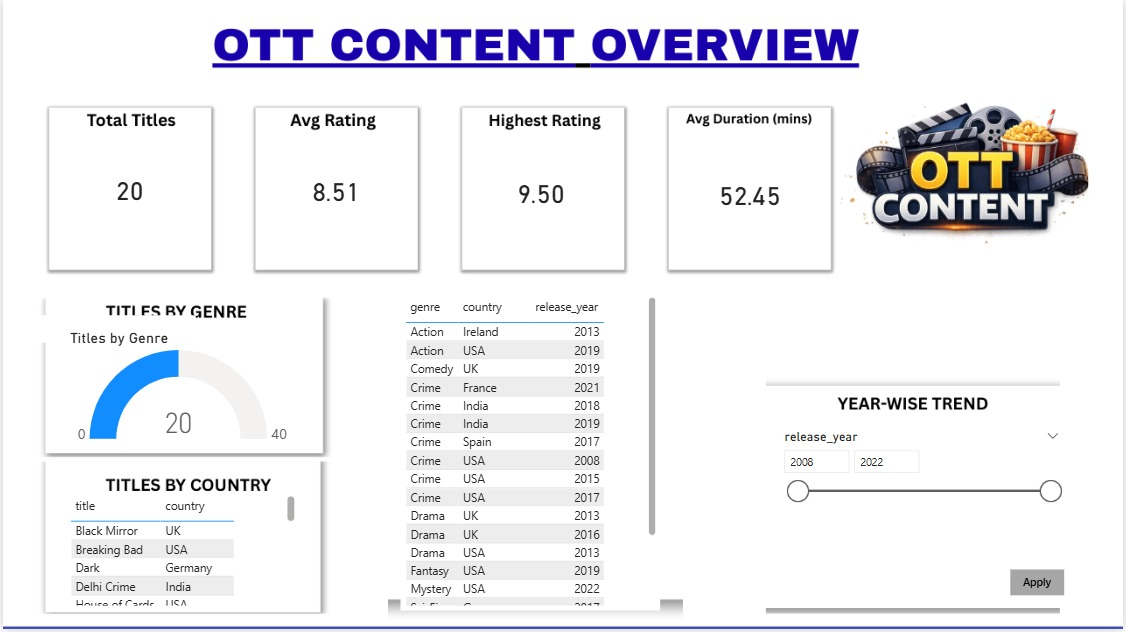

This screenshot's page, from the dashboard's own definition file:
{"tool":"powerbi","page":{"name":"Page 1","canvas":[1280,720],"ordinal":0},"visuals":[{"type":"textbox","box":[16.5,360.9,203.1,31.6],"z":0},{"type":"card","fields":{"Values":["ott_content_dataset.Total Titles"]},"box":[57.1,162.9,175.7,110],"z":1000},{"type":"card","fields":{"Values":["ott_content_dataset.Average Rating"]},"box":[292.9,182.9,175.7,72.9],"z":2000},{"type":"card","fields":{"Values":["ott_content_dataset.Highest Rating"]},"box":[527.1,182.9,175.7,77.1],"z":3000},{"type":"card","fields":{"Values":["ott_content_dataset.Average Duration"]},"box":[765.7,162.9,175.7,121.4],"z":4000},{"type":"gauge","fields":{"Y":["ott_content_dataset.Titles by Genre"]},"box":[71.4,377.1,267.1,135.7],"z":5000},{"type":"tableEx","fields":{"Values":["ott_content_dataset.title","ott_content_dataset.country"]},"box":[71.4,562.9,267.1,135.7],"z":6000},{"type":"tableEx","fields":{"Values":["ott_content_dataset.genre","ott_content_dataset.country","ott_content_dataset.release_year"]},"box":[454.3,335.7,297.1,362.9],"z":7000},{"type":"slicer","fields":{"Values":["ott_content_dataset.release_year"]},"box":[880,487.1,338.6,200],"z":8000}]}

Visuals, with their boxes in screenshot pixels (x1, y1, x2, y2), scaled from the page's 1280x720 canvas onto the 1126x632 screenshot:
textbox: x1=15 y1=317 x2=193 y2=345
card - ott_content_dataset.Total Titles: x1=50 y1=143 x2=205 y2=240
card - ott_content_dataset.Average Rating: x1=258 y1=161 x2=412 y2=225
card - ott_content_dataset.Highest Rating: x1=464 y1=161 x2=618 y2=228
card - ott_content_dataset.Average Duration: x1=674 y1=143 x2=828 y2=250
gauge - ott_content_dataset.Titles by Genre: x1=63 y1=331 x2=298 y2=450
tableEx - ott_content_dataset.title x ott_content_dataset.country: x1=63 y1=494 x2=298 y2=613
tableEx - ott_content_dataset.genre x ott_content_dataset.country: x1=400 y1=295 x2=661 y2=613
slicer - ott_content_dataset.release_year: x1=774 y1=428 x2=1072 y2=603
